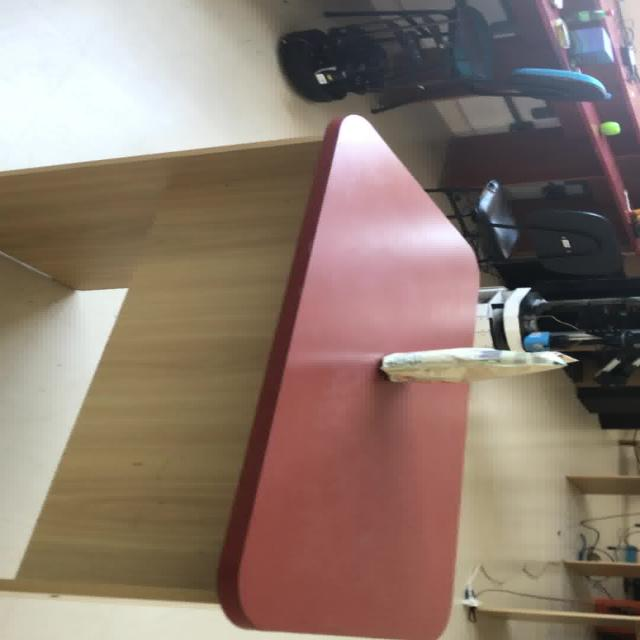corn flakes: (378, 346, 577, 383)
